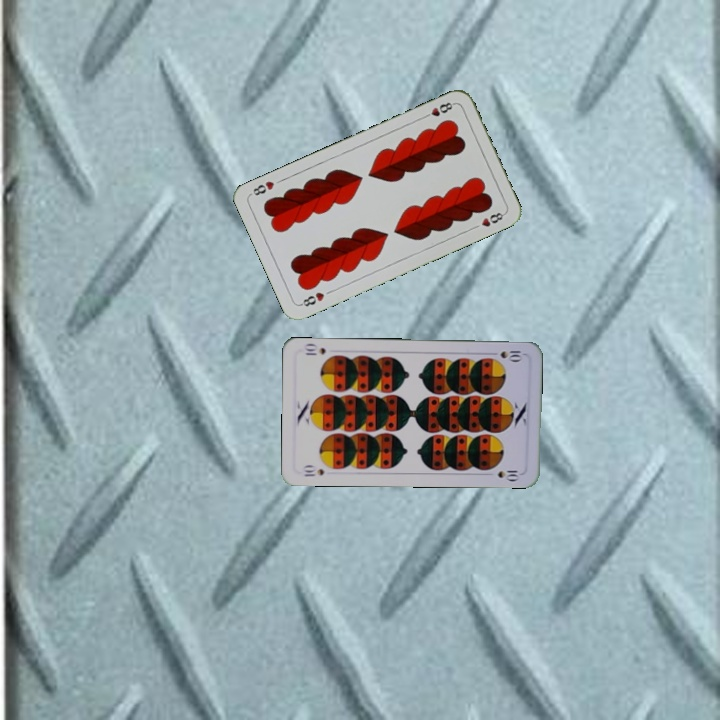H8: (419, 98, 457, 121), (296, 288, 327, 309)
S10: (486, 346, 526, 362), (300, 462, 327, 479)
